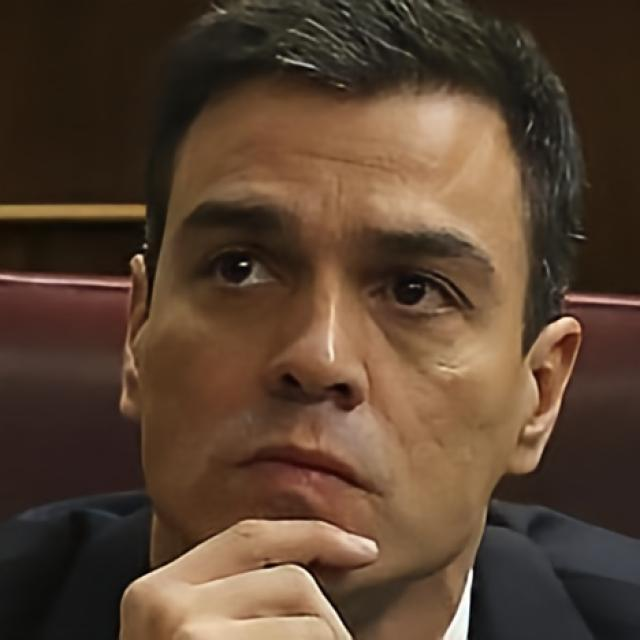sad: (144, 82, 526, 594)
